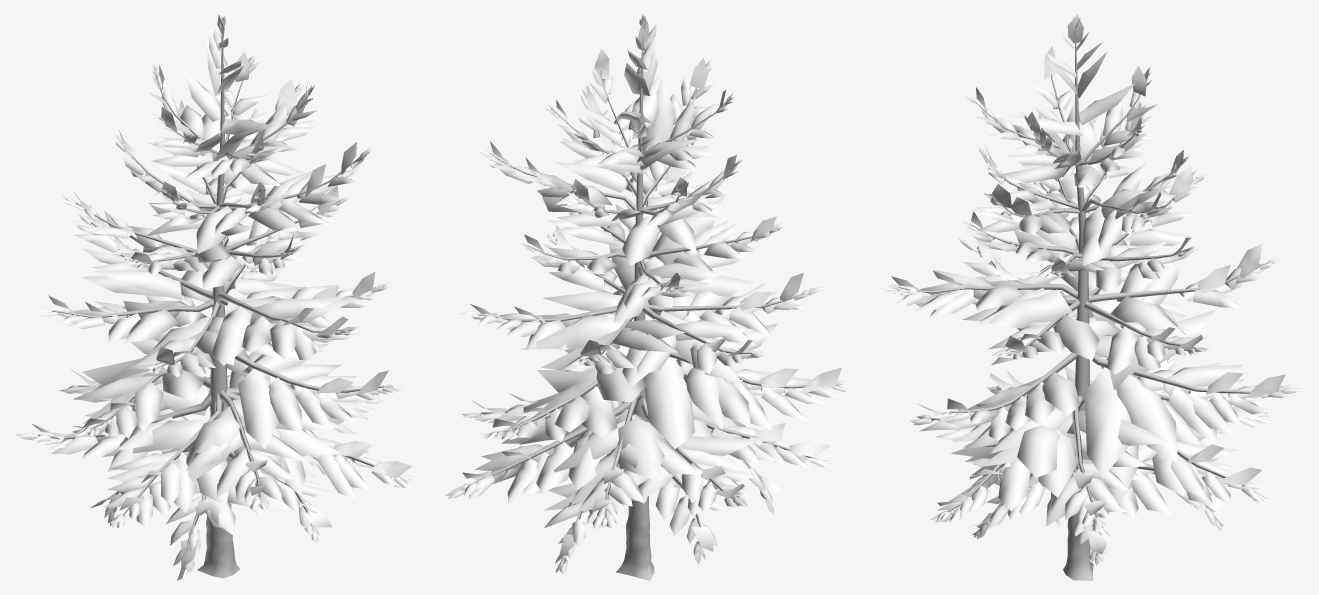
The model's file is Sapin_1(fbx).fbx.
3 views of the same model, side by side, from view 1: azimuth 30°, elevation 25°; view 2: azimuth 150°, elevation 25°; view 3: azimuth 270°, elevation 25° (orthographic).
Visible parts, largest first — view 1: Sapin_1(fbx); view 2: Sapin_1(fbx); view 3: Sapin_1(fbx).
Boxes of the visible parts, box(x1,y1,x2,y2) form: Sapin_1(fbx): box(15, 14, 414, 580); Sapin_1(fbx): box(445, 14, 850, 580); Sapin_1(fbx): box(880, 14, 1304, 580).
Size of the model in its own units: 51.87 by 78.91 by 54.52.
